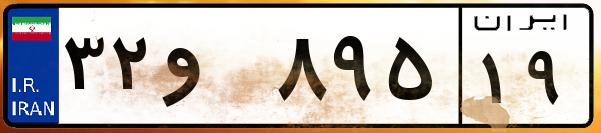1: (475, 38, 525, 113)
2: (110, 28, 158, 98)
3: (57, 26, 110, 100)
5: (385, 28, 445, 110)
8: (270, 28, 330, 110)
9: (330, 28, 385, 110), (525, 38, 570, 115)
و: (158, 20, 270, 120)
